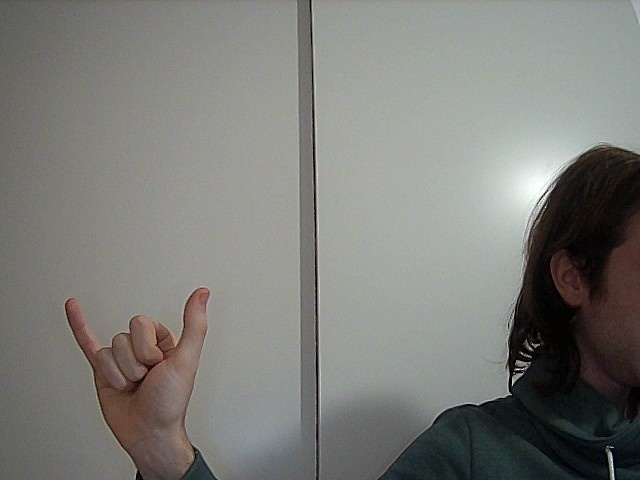y: (52, 277, 218, 438)
